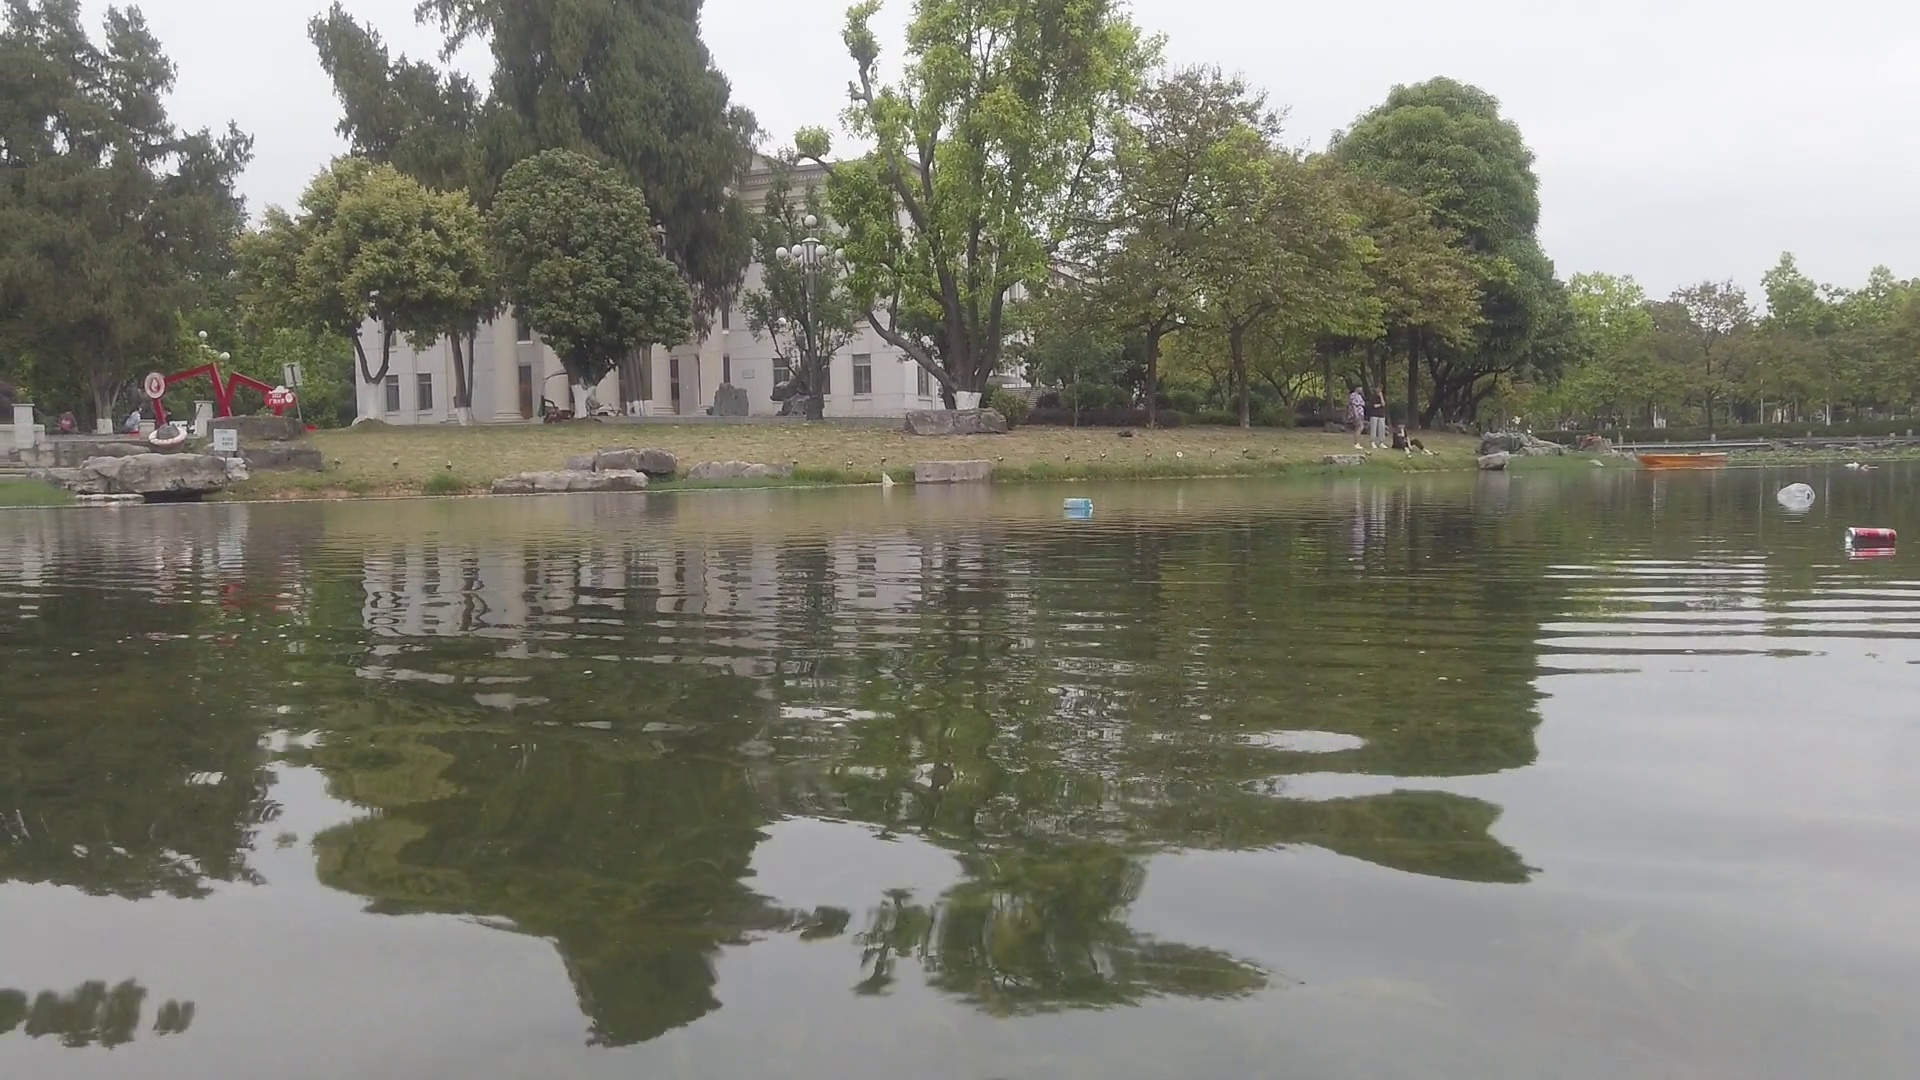bottle: (1846, 524, 1896, 549)
carton: (1062, 497, 1091, 508)
plastic: (1779, 485, 1815, 506)
